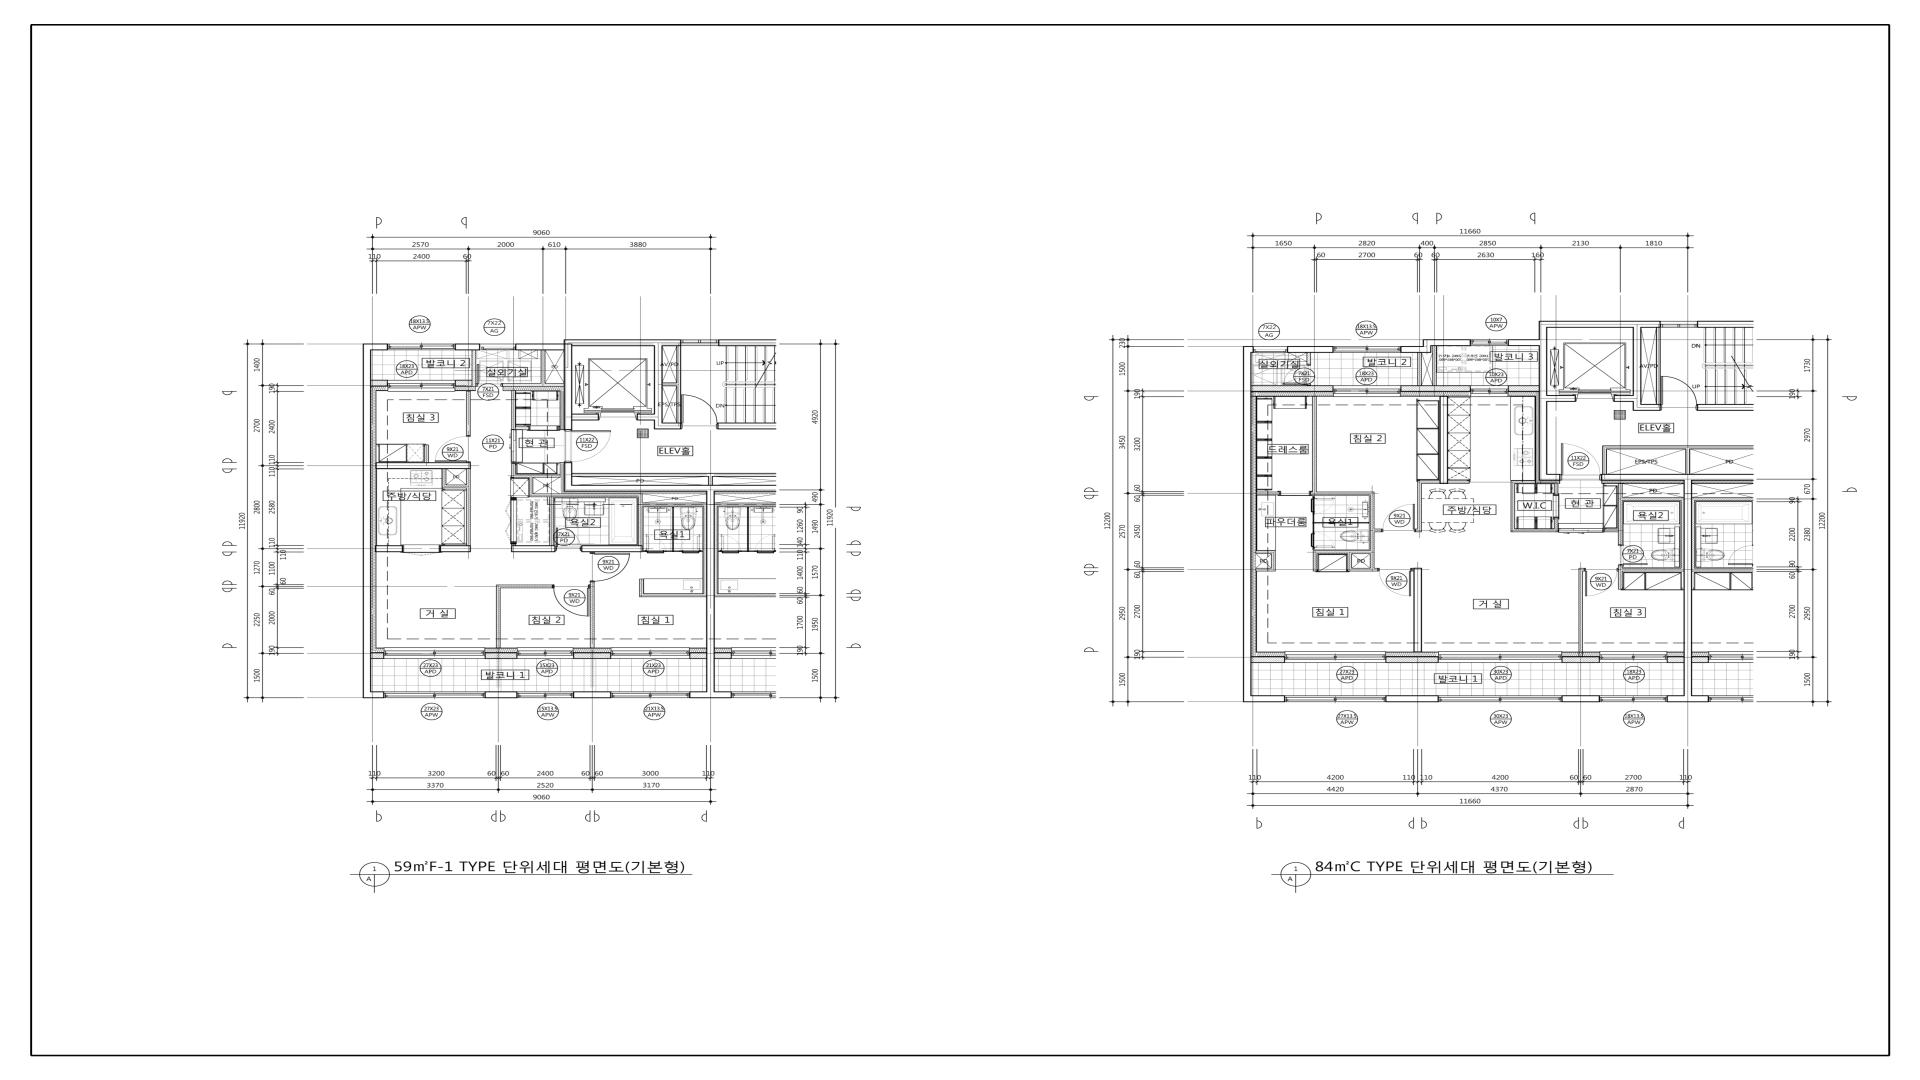door: (564, 430, 612, 463), (1560, 443, 1601, 480), (1660, 376, 1697, 411), (682, 394, 717, 430), (553, 584, 589, 617), (589, 553, 630, 582), (1382, 504, 1416, 533), (1378, 568, 1414, 596), (435, 435, 471, 463), (1584, 568, 1618, 596), (1618, 545, 1648, 566), (555, 527, 582, 551), (1282, 364, 1311, 385), (476, 364, 502, 386), (505, 497, 517, 545), (1311, 496, 1336, 514), (1311, 531, 1336, 550), (402, 545, 440, 555), (1559, 529, 1604, 533), (1553, 493, 1560, 520), (510, 430, 516, 463), (1279, 491, 1311, 496), (529, 426, 558, 431)
wall: (1242, 345, 1254, 702), (363, 351, 372, 691), (1684, 481, 1692, 695), (707, 492, 715, 691), (572, 485, 777, 492), (1539, 328, 1547, 480), (1601, 473, 1754, 480), (564, 339, 682, 347), (572, 473, 777, 477), (1539, 320, 1660, 327), (1633, 327, 1642, 411), (1440, 396, 1448, 484), (1414, 568, 1422, 653), (376, 463, 471, 469), (564, 351, 572, 430), (1602, 446, 1754, 450), (654, 345, 662, 414), (1251, 385, 1333, 392), (1578, 568, 1584, 657), (1400, 385, 1470, 392), (719, 339, 777, 347), (1697, 404, 1754, 411), (516, 343, 572, 351), (1697, 320, 1754, 328), (529, 493, 640, 497), (1386, 695, 1439, 703), (676, 345, 682, 423), (582, 546, 642, 553), (717, 423, 777, 430), (1312, 397, 1316, 492), (1287, 345, 1333, 353), (703, 502, 707, 593), (1386, 657, 1439, 663), (1667, 695, 1709, 703), (1423, 339, 1470, 345), (467, 468, 471, 546), (1656, 327, 1660, 404), (1561, 695, 1600, 703), (1370, 496, 1374, 568), (512, 546, 555, 553), (563, 463, 572, 492), (591, 582, 595, 647), (1251, 695, 1284, 703), (1416, 484, 1422, 533), (1561, 657, 1600, 663), (1311, 492, 1374, 496), (496, 584, 500, 647), (644, 593, 707, 597), (574, 691, 611, 698), (574, 653, 611, 659), (654, 421, 680, 430), (1618, 484, 1622, 545), (642, 502, 703, 506), (1400, 345, 1431, 353), (465, 390, 471, 435), (1623, 497, 1681, 501), (1313, 550, 1370, 554), (376, 545, 404, 553), (1251, 657, 1284, 663), (1432, 345, 1437, 385), (485, 691, 517, 698), (500, 584, 553, 588), (485, 653, 517, 659), (638, 493, 642, 546), (1507, 339, 1539, 345), (1509, 385, 1539, 392), (440, 546, 471, 553), (690, 691, 715, 699), (455, 343, 480, 351), (512, 473, 560, 477), (550, 497, 554, 546), (1547, 396, 1576, 402), (1511, 529, 1559, 533), (1681, 497, 1684, 568), (1511, 484, 1515, 529), (572, 414, 599, 421), (541, 351, 546, 384), (363, 344, 388, 351), (637, 414, 662, 421), (1622, 568, 1684, 571), (502, 384, 564, 386), (512, 390, 516, 430), (1642, 404, 1660, 411), (472, 351, 476, 386), (363, 691, 384, 698), (1618, 566, 1623, 589), (1418, 353, 1422, 385), (1602, 450, 1607, 473), (1685, 450, 1691, 473), (1614, 396, 1633, 402), (1667, 657, 1684, 663), (371, 380, 388, 386), (455, 380, 472, 386), (690, 653, 707, 659), (1511, 480, 1536, 484), (442, 469, 447, 488), (1255, 492, 1279, 496), (1418, 480, 1440, 484), (371, 653, 384, 659), (1547, 473, 1560, 480), (1448, 480, 1469, 484), (1348, 568, 1378, 571), (1255, 550, 1275, 554), (640, 579, 644, 597), (425, 444, 429, 463), (1315, 522, 1369, 524), (1313, 554, 1317, 571), (1271, 554, 1275, 571), (529, 477, 533, 493), (1604, 529, 1618, 533), (1348, 554, 1352, 568), (662, 382, 676, 386), (446, 485, 467, 488), (1553, 520, 1559, 529), (1553, 484, 1559, 493), (708, 476, 713, 485), (1312, 514, 1315, 531), (1307, 353, 1311, 364), (1255, 568, 1271, 571), (512, 463, 516, 473), (516, 427, 529, 430), (1374, 529, 1382, 533), (510, 496, 529, 497), (558, 427, 560, 430), (512, 545, 516, 546)
window: (1439, 651, 1563, 663), (1284, 651, 1386, 663), (384, 647, 485, 659), (611, 647, 690, 659), (1439, 695, 1561, 702), (1600, 651, 1667, 663), (1333, 385, 1400, 397), (388, 380, 455, 392), (1284, 695, 1386, 702), (384, 691, 485, 698), (517, 647, 574, 658), (612, 691, 690, 698), (1470, 385, 1509, 397), (1600, 695, 1667, 702), (388, 344, 455, 351), (517, 691, 574, 698), (1333, 347, 1400, 352), (1660, 320, 1697, 327), (1470, 339, 1507, 345), (480, 344, 516, 349), (1254, 347, 1287, 352)
